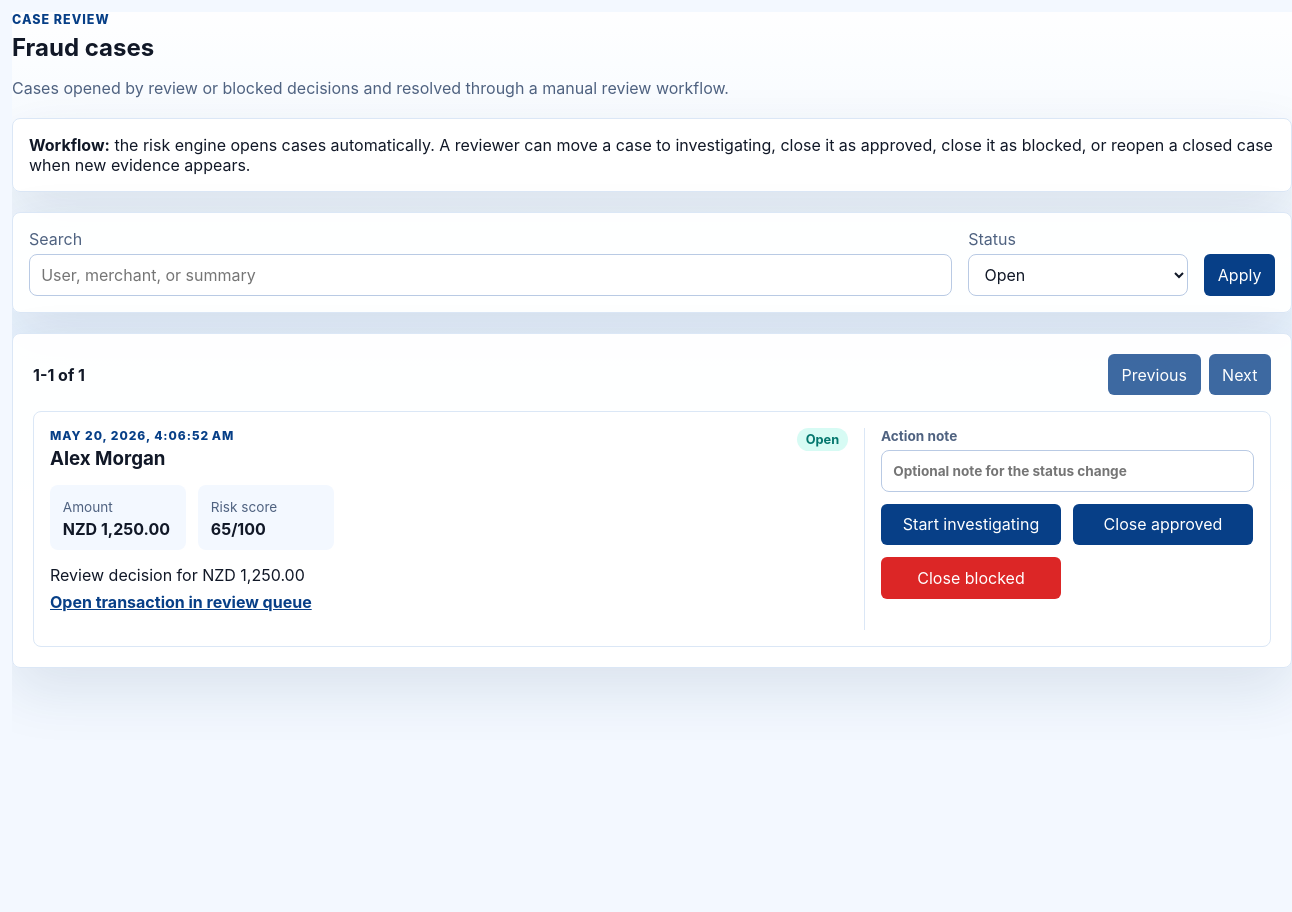
FraudCasesComponent › removes an updated case when it no longer matches the active status filter
Click the button "Start investigating".
click(971, 524)  # box [881,504,1061,545]
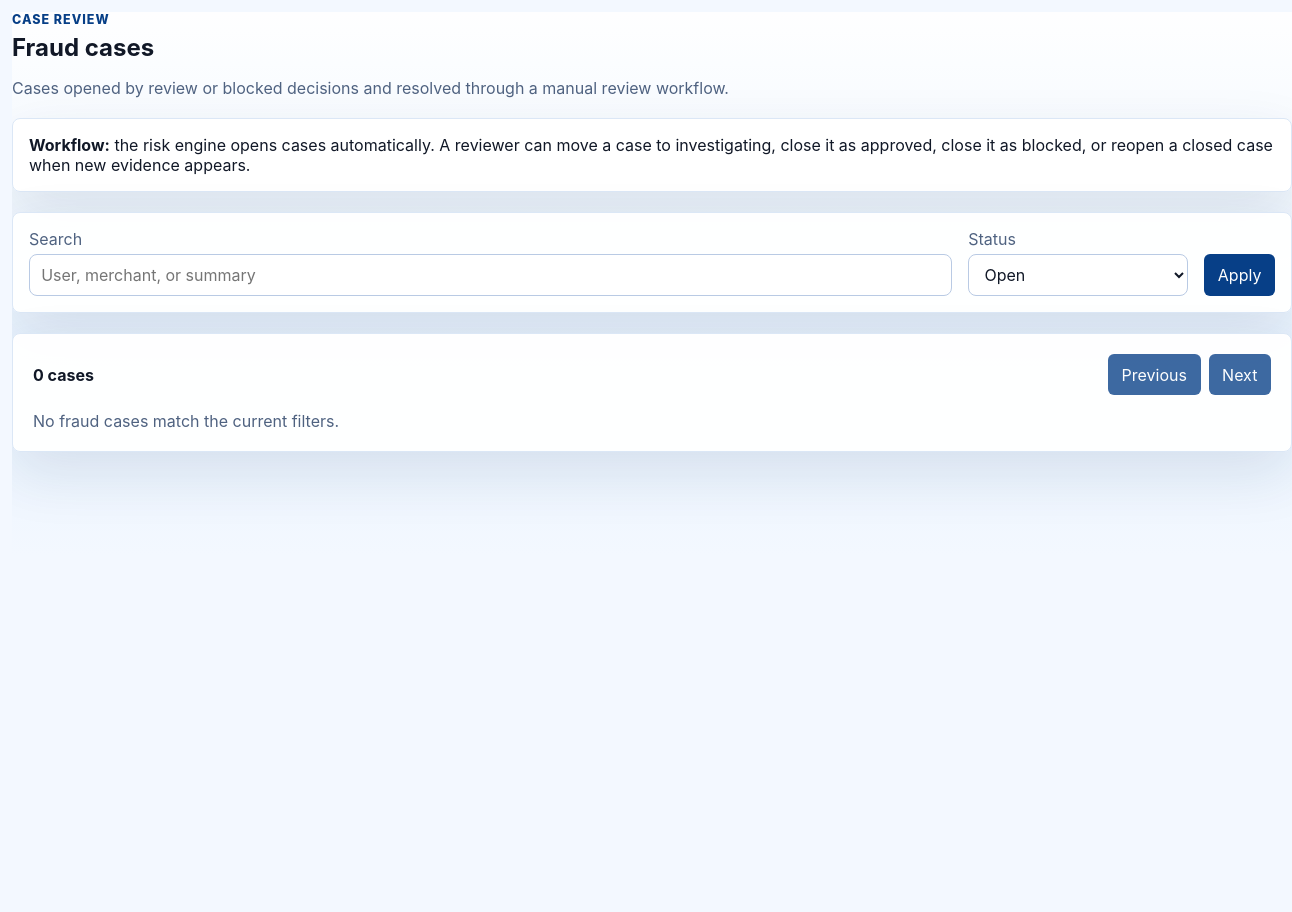
Now the text "0 cases" is shown, box [33,365,94,385]
